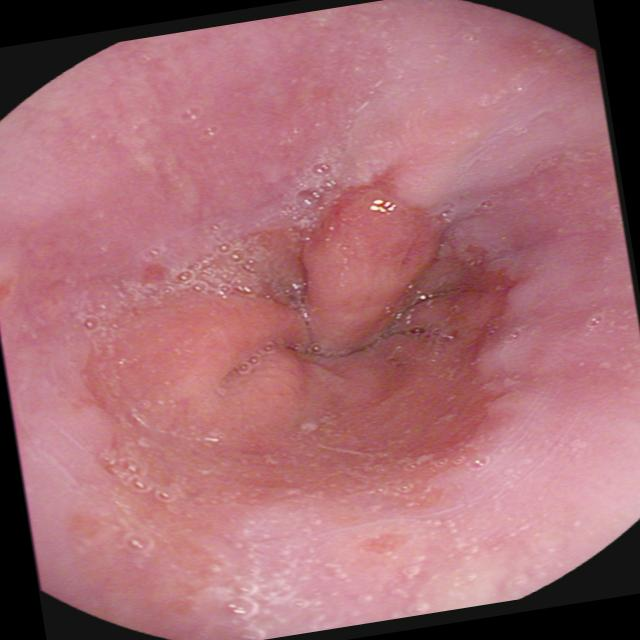esophagitis: (48, 173, 533, 611)
